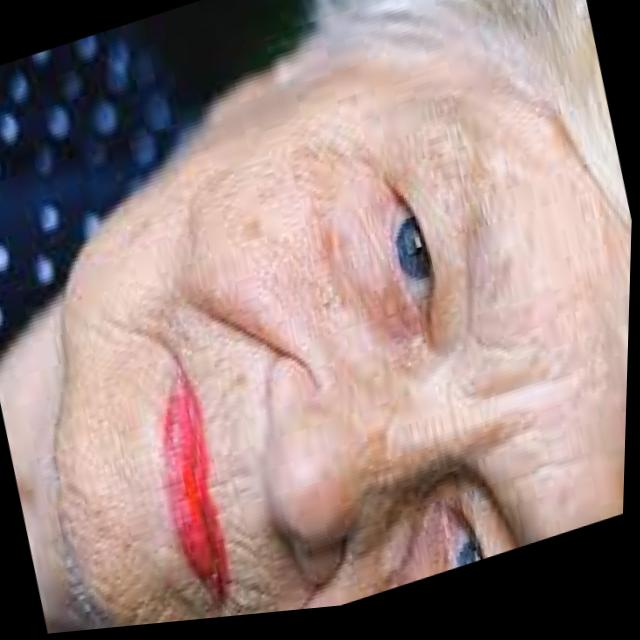Wrinkles: (87, 304, 179, 360), (478, 387, 565, 411)
